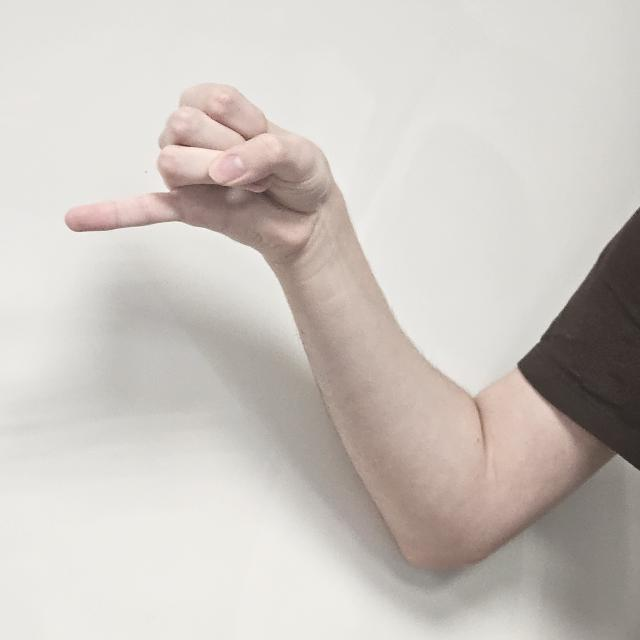Esquerda: (64, 73, 338, 280)
